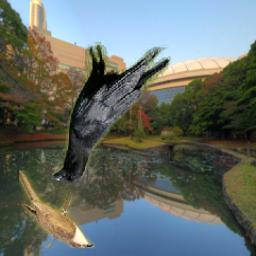Crow: (52, 43, 171, 184)
Cuckoo: (18, 171, 93, 249)
